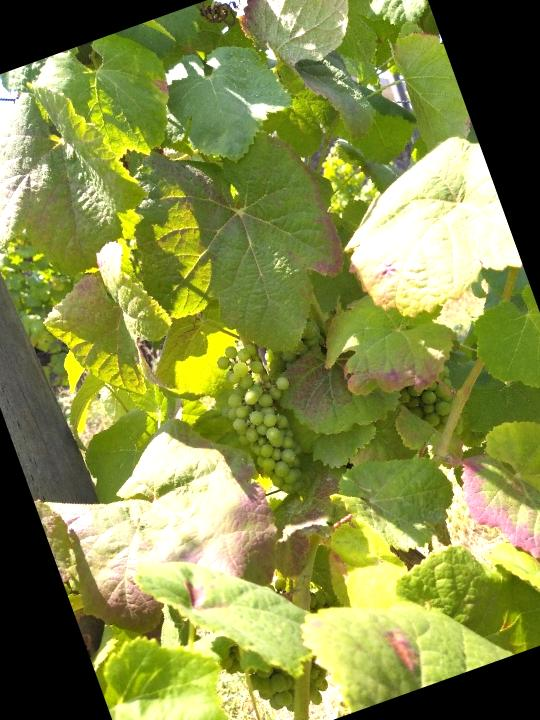grape: (203, 330, 326, 507)
